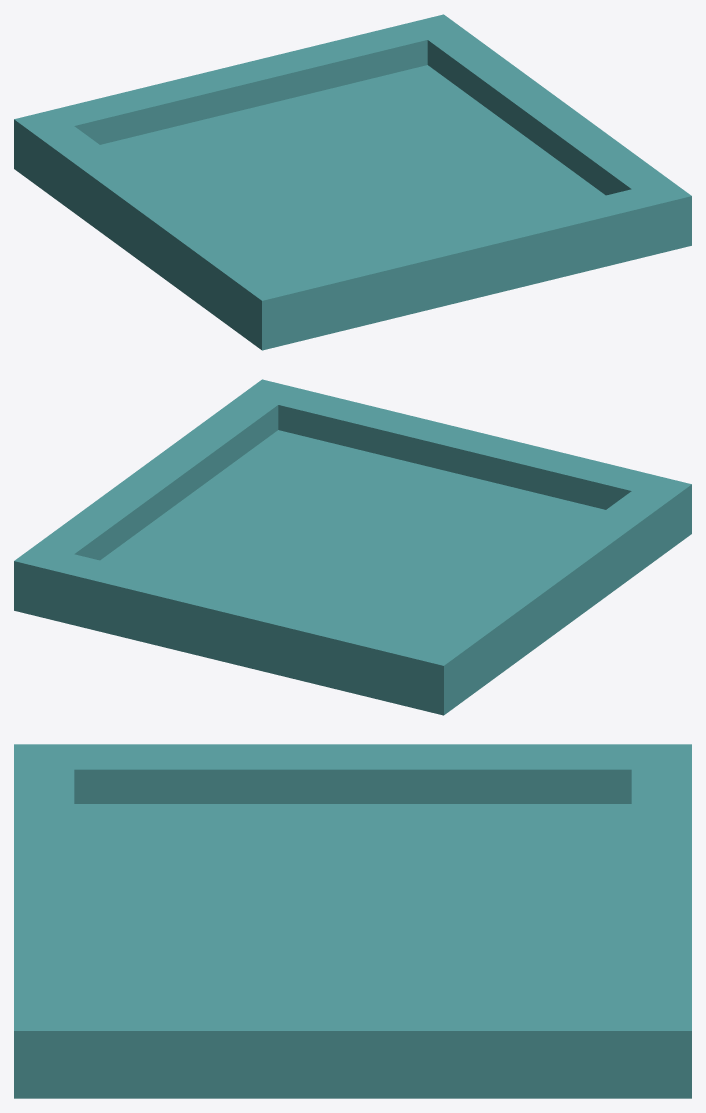
The model's file is Trap_Main.fbx.
3 views of the same model, one above another, from view 1: azimuth 30°, elevation 25°; view 2: azimuth 150°, elevation 25°; view 3: azimuth 270°, elevation 25° (orthographic). The views are drawn at different scales.
Parts seen in each view (by area): view 1: Trap_Main; view 2: Trap_Main; view 3: Trap_Main.
Boxes of the visible parts, x1,y1,x2,y2 form: Trap_Main: [14, 14, 691, 350]; Trap_Main: [14, 379, 691, 715]; Trap_Main: [14, 744, 691, 1098].
Size of the model in its own units: 2 by 0.2208 by 2.
